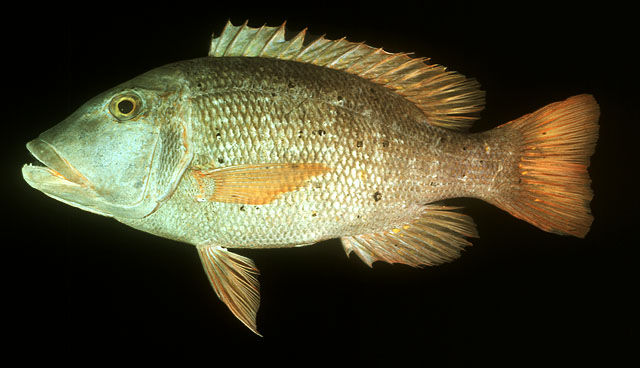fish: (22, 18, 601, 338)
